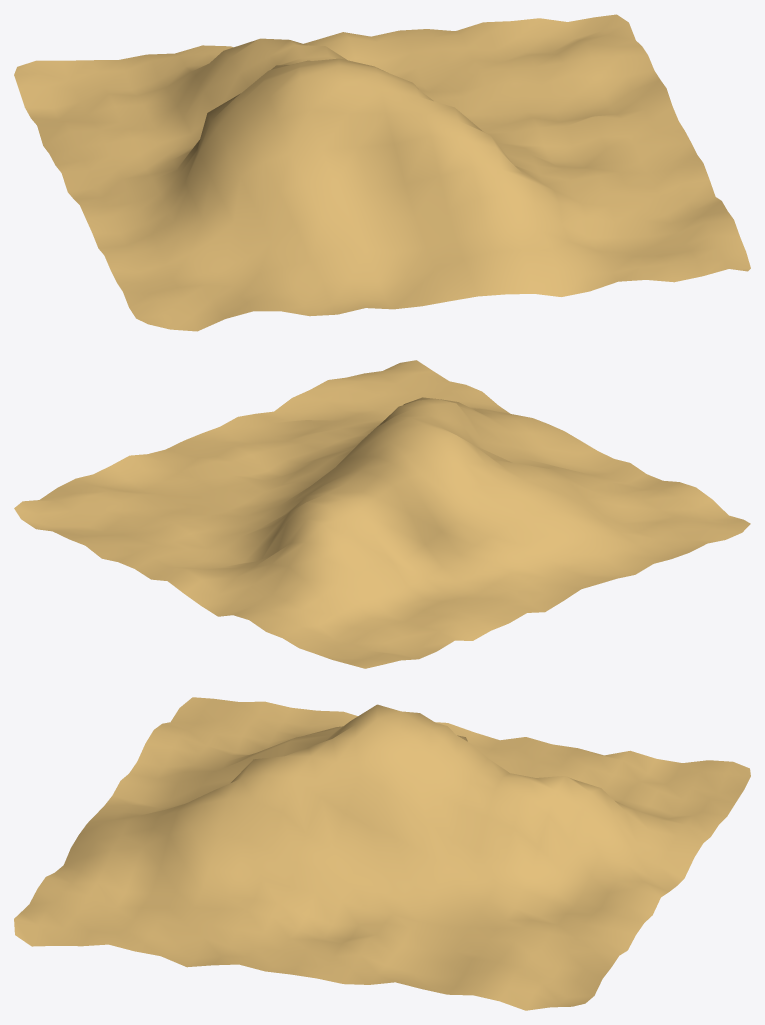
File: sand_3.fbx
The picture shows the model from 3 angles, top to bottom: view 1: azimuth 30°, elevation 25°; view 2: azimuth 150°, elevation 25°; view 3: azimuth 270°, elevation 25°; orthographic projection. The views are drawn at different scales.
Parts seen in each view (by area): view 1: Sol.002; view 2: Sol.002; view 3: Sol.002.
Part boxes in pixels (bbox=[...]): Sol.002: bbox=[14, 14, 750, 331]; Sol.002: bbox=[14, 360, 750, 668]; Sol.002: bbox=[14, 697, 750, 1010].
Size of the model in its own units: 2497 by 457 by 2497.
